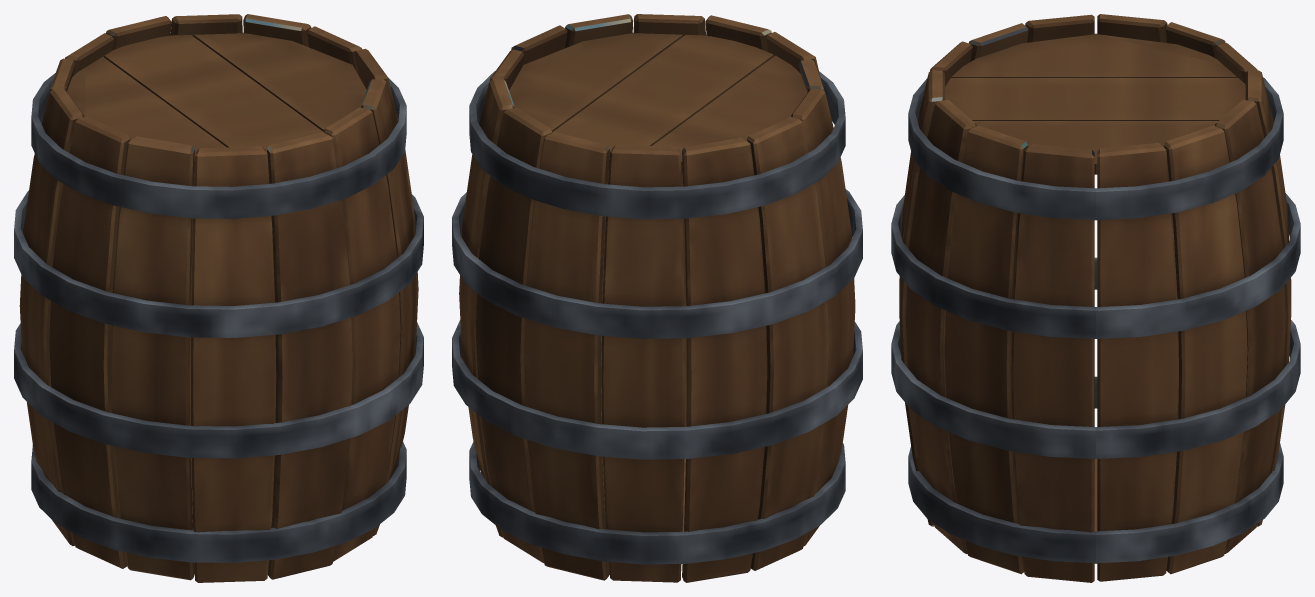
File: ENV_Barrel.fbx
3 views of the same model, side by side, from view 1: azimuth 30°, elevation 25°; view 2: azimuth 150°, elevation 25°; view 3: azimuth 270°, elevation 25° (orthographic).
Visible parts, largest first — view 1: ENV_Barrel; view 2: ENV_Barrel; view 3: ENV_Barrel.
Boxes of the visible parts, x1,y1,x2,y2 form: ENV_Barrel: (14, 14, 423, 582); ENV_Barrel: (452, 14, 862, 582); ENV_Barrel: (891, 14, 1300, 582).
Bounding box in the file's own units: 0.8658 × 1 × 0.8658.
